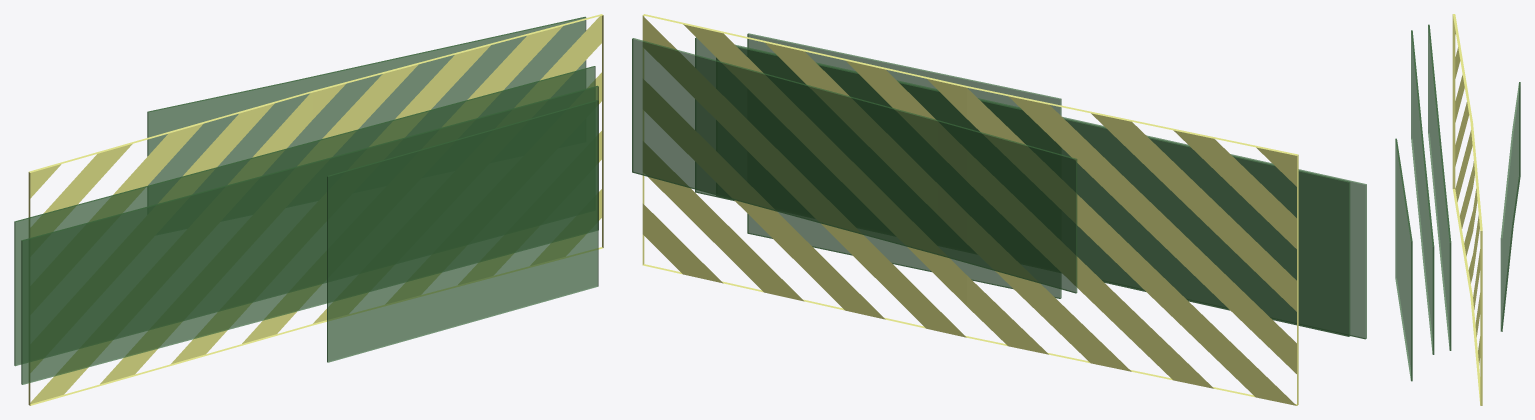
File: Axial plane.glb
3 views of the same model, side by side, from view 1: azimuth 30°, elevation 25°; view 2: azimuth 150°, elevation 25°; view 3: azimuth 270°, elevation 25° (orthographic). The views are drawn at different scales.
Parts seen in each view (by area): view 1: Plane.003, Plane.004; view 2: Plane.003, Plane.004; view 3: Plane.003, Plane.004.
Boxes of the visible parts, left/top/right/bottom form: Plane.003: left=14, top=16, right=598, bottom=384; Plane.004: left=28, top=14, right=603, bottom=405; Plane.003: left=632, top=33, right=1366, bottom=339; Plane.004: left=642, top=14, right=1298, bottom=405; Plane.003: left=1395, top=24, right=1520, bottom=381; Plane.004: left=1452, top=14, right=1482, bottom=405.
Bounding box in the file's own units: 0.3175 × 0.1127 × 0.0732.
